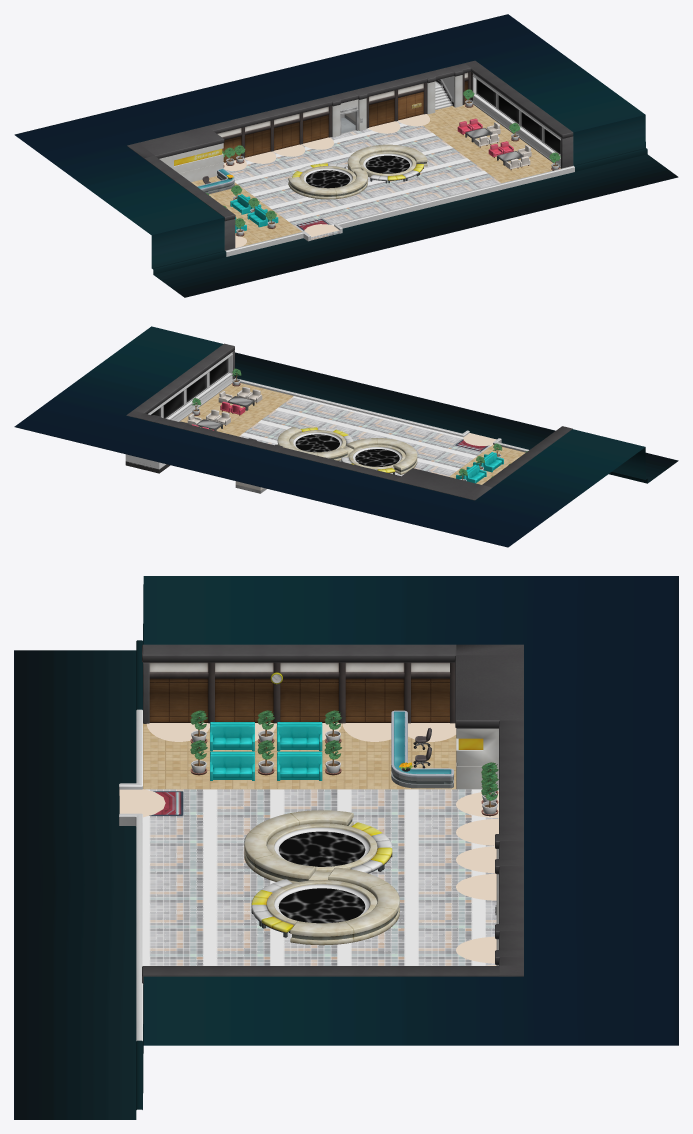
3 renders of one model, top to bottom at view 1: azimuth 30°, elevation 25°; view 2: azimuth 150°, elevation 25°; view 3: azimuth 270°, elevation 25°, orthographic. The views are drawn at different scales.
Visible parts, largest first — view 1: combg01_01, floor01, cc9568f91a989e3de6e0caa94, d3253b1042af6f6a8b0c5fe, bc32706fb50f4a4108e4181c08, e217bdccd0a2473baf80bc77fc, bbf099e677c05e2509e126f1b5, fd655999b75e8636e2110924, deacbd862bef8dd399c431, cee9525a06075dae597a58dba3, white, cf932a0d5a3940934a7 (+8 smaller); view 2: combg01_01, floor01, cc9568f91a989e3de6e0caa94, bc32706fb50f4a4108e4181c08, bbf099e677c05e2509e126f1b5, fd655999b75e8636e2110924, cee9525a06075dae597a58dba3, deacbd862bef8dd399c431, white, d4f5ac91025b2621d475b4b820, fountain_water_1, fountain_water_2 (+4 smaller); view 3: combg01_01, floor01, cc9568f91a989e3de6e0caa94, d3253b1042af6f6a8b0c5fe, bc32706fb50f4a4108e4181c08, d69657584f18fea80c40199, deacbd862bef8dd399c431, fd655999b75e8636e2110924, bbf099e677c05e2509e126f1b5, fountain_water_1, fountain_water_2, e217bdccd0a2473baf80bc77fc (+12 smaller).
Part boxes in pixels (x1=…): combg01_01: x1=14, y1=14, x2=678, y2=297; floor01: x1=226, y1=121, x2=500, y2=240; cc9568f91a989e3de6e0caa94: x1=127, y1=60, x2=573, y2=250; d3253b1042af6f6a8b0c5fe: x1=217, y1=72, x2=472, y2=162; bc32706fb50f4a4108e4181c08: x1=191, y1=104, x2=560, y2=246; e217bdccd0a2473baf80bc77fc: x1=159, y1=75, x2=462, y2=182; bbf099e677c05e2509e126f1b5: x1=225, y1=93, x2=574, y2=256; fd655999b75e8636e2110924: x1=288, y1=166, x2=367, y2=199; deacbd862bef8dd399c431: x1=347, y1=144, x2=427, y2=177; cee9525a06075dae597a58dba3: x1=477, y1=79, x2=560, y2=154; white: x1=473, y1=73, x2=560, y2=166; cf932a0d5a3940934a7: x1=206, y1=89, x2=560, y2=231; combg01_01: x1=14, y1=326, x2=678, y2=547; floor01: x1=239, y1=396, x2=492, y2=476; cc9568f91a989e3de6e0caa94: x1=126, y1=343, x2=572, y2=500; bc32706fb50f4a4108e4181c08: x1=180, y1=383, x2=525, y2=484; bbf099e677c05e2509e126f1b5: x1=161, y1=372, x2=528, y2=452; fd655999b75e8636e2110924: x1=346, y1=438, x2=417, y2=474; cee9525a06075dae597a58dba3: x1=151, y1=358, x2=228, y2=418; deacbd862bef8dd399c431: x1=277, y1=427, x2=348, y2=460; white: x1=148, y1=352, x2=232, y2=421; d4f5ac91025b2621d475b4b820: x1=187, y1=386, x2=262, y2=425; fountain_water_1: x1=355, y1=449, x2=399, y2=466; fountain_water_2: x1=295, y1=434, x2=339, y2=452; combg01_01: x1=14, y1=576, x2=678, y2=1119; floor01: x1=143, y1=789, x2=498, y2=965; cc9568f91a989e3de6e0caa94: x1=142, y1=644, x2=523, y2=1023; d3253b1042af6f6a8b0c5fe: x1=149, y1=662, x2=455, y2=723; bc32706fb50f4a4108e4181c08: x1=143, y1=723, x2=456, y2=789; d69657584f18fea80c40199: x1=210, y1=722, x2=322, y2=780; deacbd862bef8dd399c431: x1=266, y1=867, x2=399, y2=945; fd655999b75e8636e2110924: x1=244, y1=810, x2=377, y2=883; bbf099e677c05e2509e126f1b5: x1=119, y1=709, x2=142, y2=1040; fountain_water_1: x1=279, y1=831, x2=365, y2=866; fountain_water_2: x1=278, y1=888, x2=365, y2=923; e217bdccd0a2473baf80bc77fc: x1=456, y1=728, x2=498, y2=965.
Bounding box in the file's own units: 4964 × 370 × 2971.
Materials: 35 (34 with a texture image).
